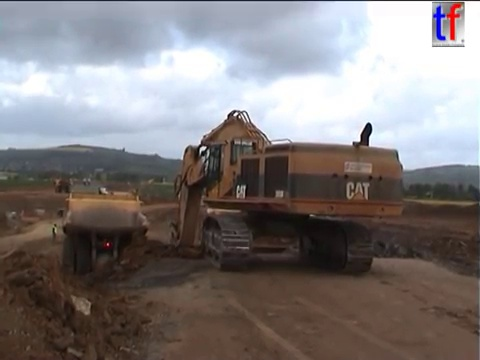excavator: (152, 107, 407, 287)
truck: (56, 190, 151, 277), (71, 184, 109, 198), (52, 177, 75, 194)
worker: (49, 221, 59, 245)
